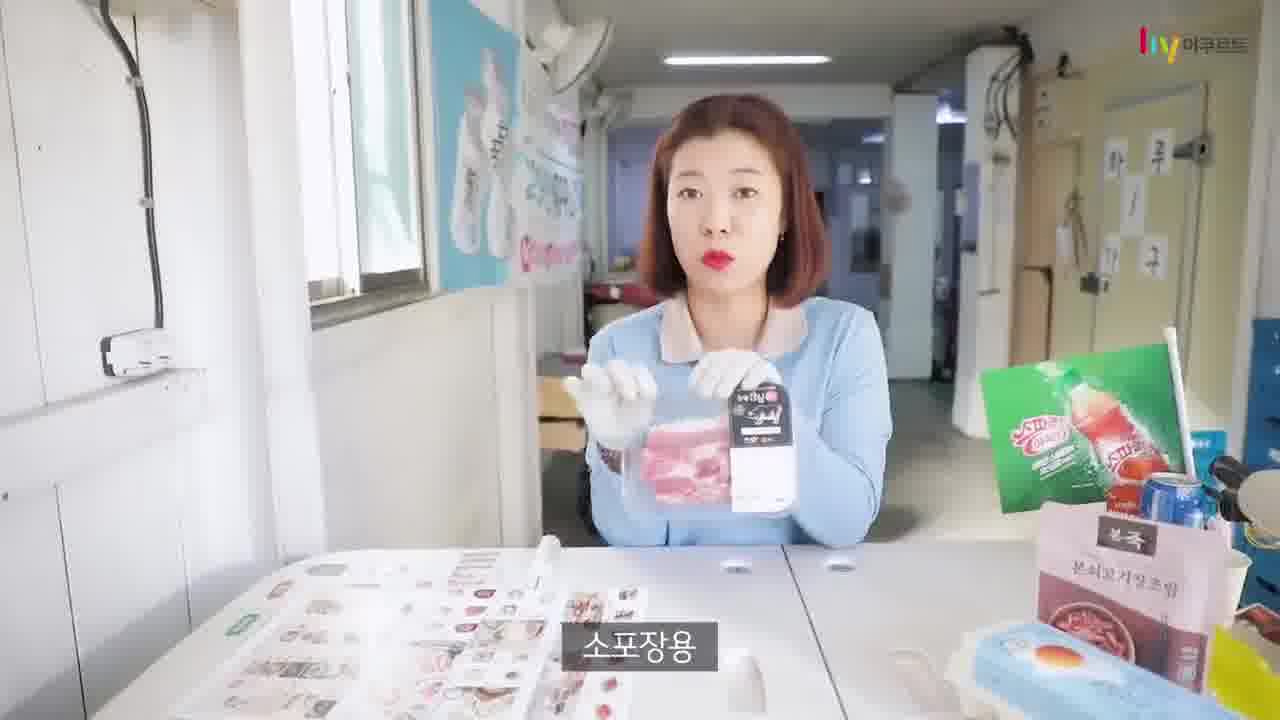Yakurut: (531, 76, 918, 554)
